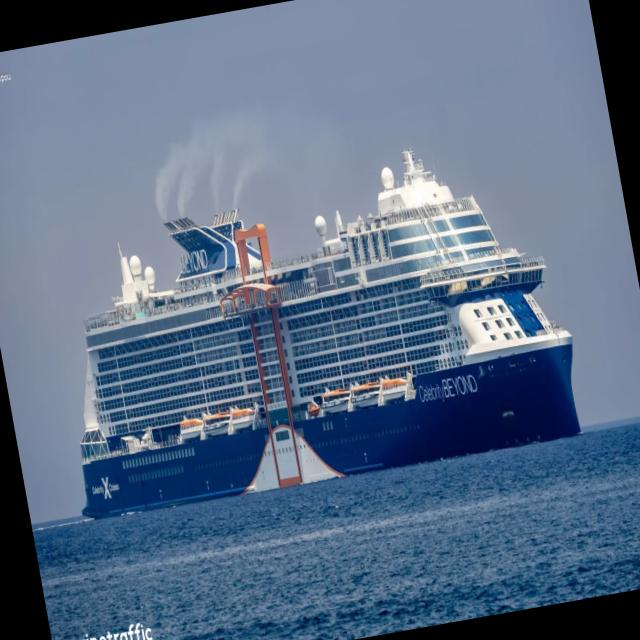Cruise: (79, 150, 579, 516)
